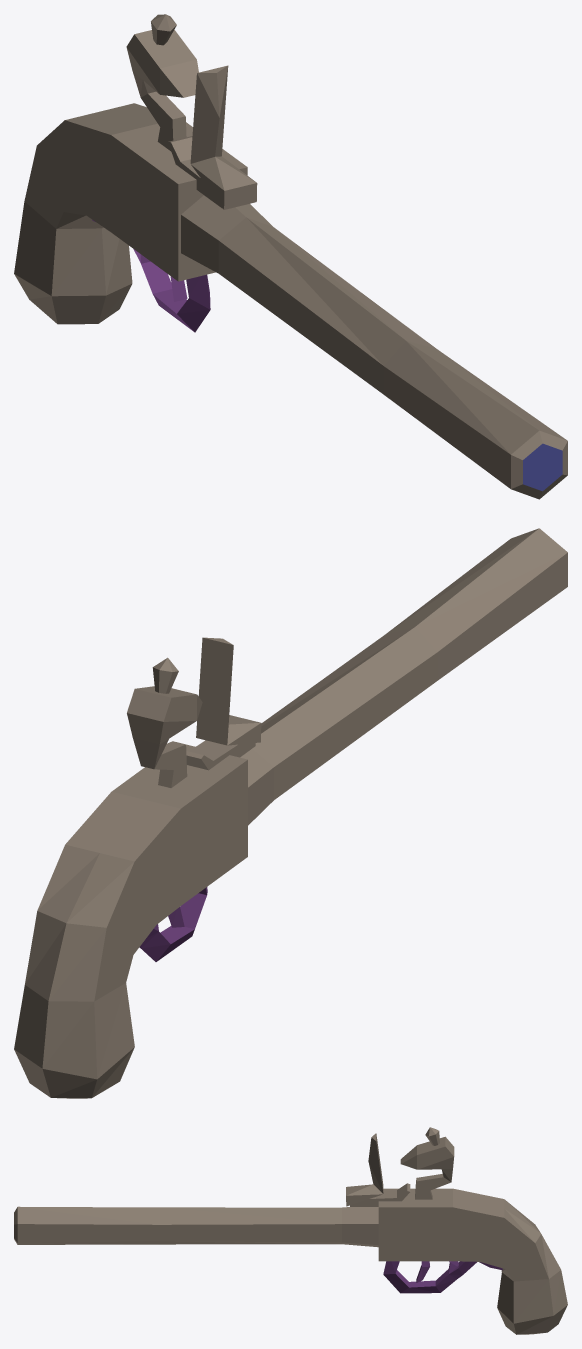
The model's file is SM_Wep_Pistol_01_Separate.glb.
The picture shows the model from 3 angles, top to bottom: view 1: azimuth 30°, elevation 25°; view 2: azimuth 150°, elevation 25°; view 3: azimuth 270°, elevation 25°; orthographic projection. The views are drawn at different scales.
Parts seen in each view (by area): view 1: SM_Wep_Pistol_01_Separate_00, SM_Wep_Pistol_01_Separate_01; view 2: SM_Wep_Pistol_01_Separate_00, SM_Wep_Pistol_01_Separate_01; view 3: SM_Wep_Pistol_01_Separate_00, SM_Wep_Pistol_01_Separate_01.
Boxes of the visible parts, x1,y1,x2,y2 form: SM_Wep_Pistol_01_Separate_00: (14,65,567,499); SM_Wep_Pistol_01_Separate_01: (126,14,198,151); SM_Wep_Pistol_01_Separate_00: (14,528,567,1098); SM_Wep_Pistol_01_Separate_01: (127,657,202,787); SM_Wep_Pistol_01_Separate_00: (14,1133,567,1334); SM_Wep_Pistol_01_Separate_01: (400,1127,454,1199).
Size of the model in its own units: 0.0499 by 0.2149 by 0.521.
1 material, 1 textured.
